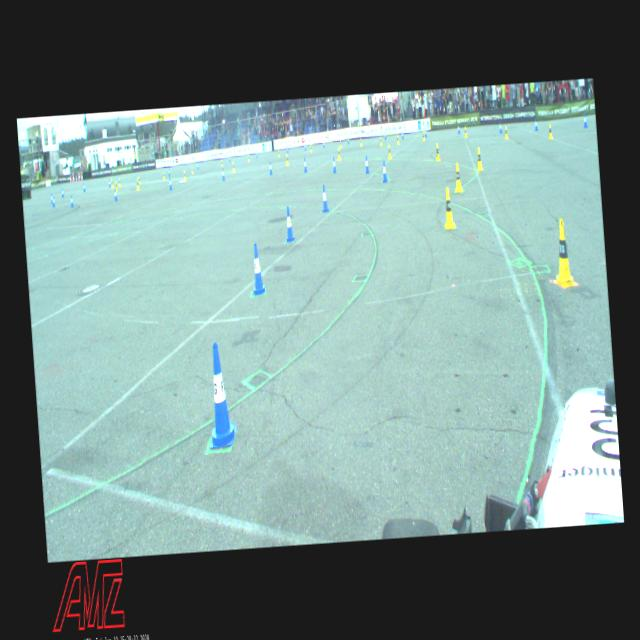blue_cone: (202, 341, 238, 449), (249, 242, 266, 296), (284, 206, 294, 242), (320, 184, 330, 212), (380, 159, 388, 182), (364, 155, 369, 173), (302, 157, 308, 172), (582, 112, 587, 128), (331, 156, 336, 172), (268, 161, 272, 174), (534, 118, 538, 131), (70, 194, 74, 207), (168, 177, 172, 190), (498, 121, 502, 133), (221, 168, 225, 180), (114, 188, 117, 200), (51, 196, 54, 207), (61, 188, 64, 197), (457, 125, 460, 134), (82, 182, 85, 190), (401, 130, 404, 138), (108, 178, 110, 188), (384, 130, 386, 140), (347, 135, 349, 144), (322, 140, 324, 148), (196, 162, 198, 170), (168, 168, 170, 176), (286, 145, 288, 153), (424, 128, 426, 136), (304, 143, 306, 150), (51, 193, 52, 203), (256, 150, 257, 158), (229, 155, 230, 162)
yellow_cone: (549, 218, 577, 286), (442, 186, 455, 228), (453, 162, 463, 191), (475, 147, 483, 170), (435, 142, 440, 160), (548, 123, 553, 139), (336, 147, 341, 160), (504, 125, 508, 138), (463, 125, 467, 138), (114, 181, 118, 191), (110, 178, 114, 188), (285, 154, 288, 166), (232, 160, 235, 172), (136, 178, 139, 190), (183, 169, 186, 181), (338, 139, 342, 148), (422, 130, 425, 141), (379, 136, 382, 146), (277, 148, 280, 158), (396, 134, 399, 144), (388, 144, 390, 158), (118, 177, 121, 186), (359, 137, 362, 146), (309, 143, 312, 152), (162, 171, 165, 179), (137, 175, 140, 183), (190, 166, 193, 173), (248, 153, 250, 161), (221, 160, 223, 167)
